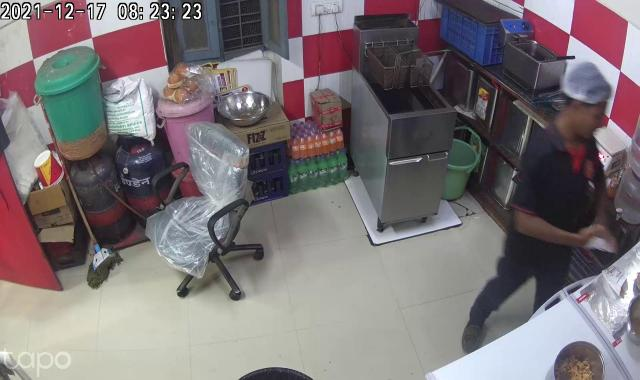hairnet: (554, 63, 622, 110)
